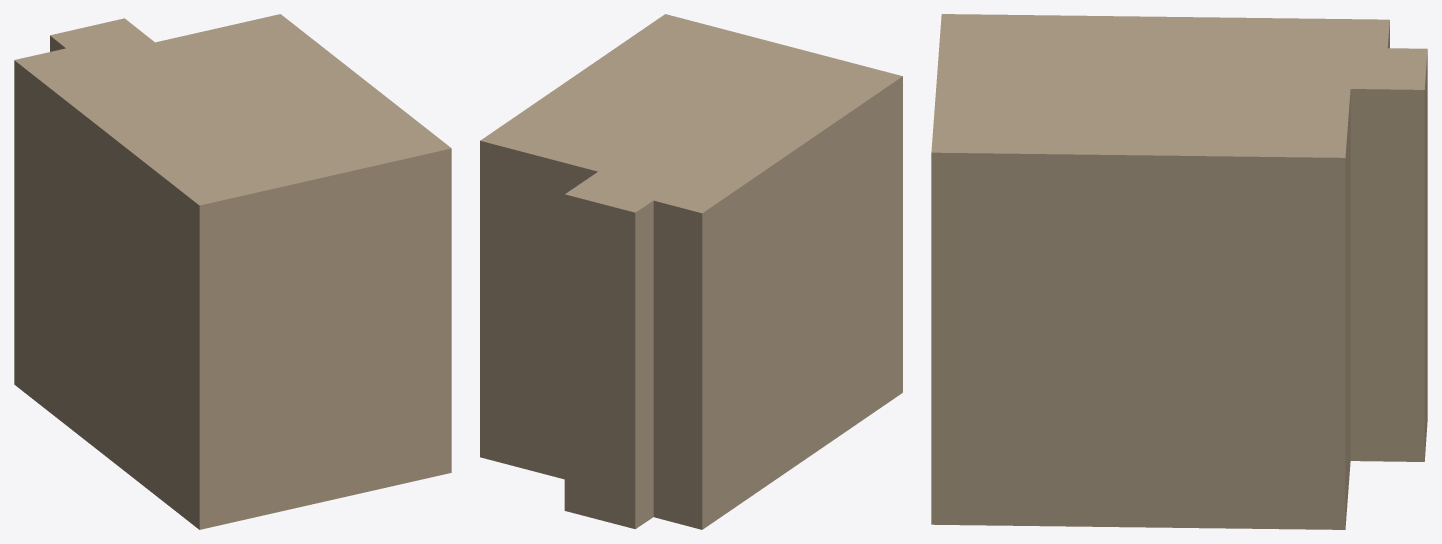
The model's file is bld_101374707.dae.
3 renders of one model, left to right at view 1: azimuth 30°, elevation 25°; view 2: azimuth 150°, elevation 25°; view 3: azimuth 270°, elevation 25°, orthographic. The views are drawn at different scales.
Visible parts, largest first — view 1: bld_101374707; view 2: bld_101374707; view 3: bld_101374707.
Part boxes in pixels (x1,y1,x2,y2): bld_101374707: [14, 14, 451, 529]; bld_101374707: [480, 14, 902, 529]; bld_101374707: [931, 14, 1427, 529].
Bounding box in the file's own units: 6.64 × 9.67 × 8.
